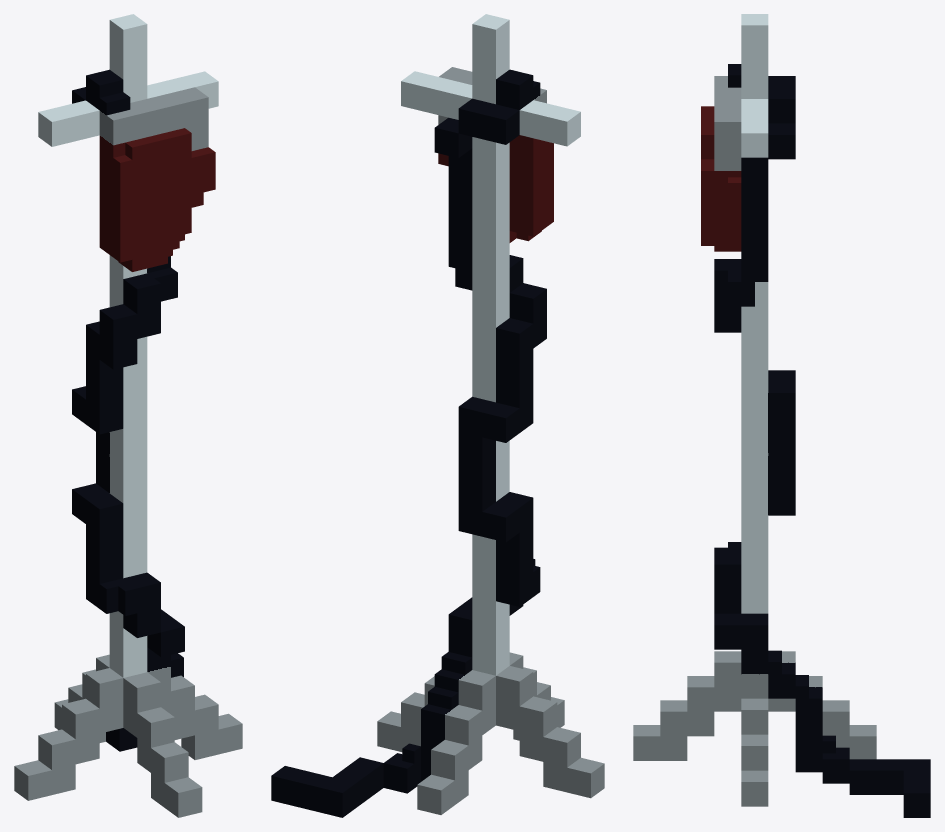
Rendered from kroplowka.dae.
3 views of the same model, side by side, from view 1: azimuth 30°, elevation 25°; view 2: azimuth 150°, elevation 25°; view 3: azimuth 270°, elevation 25° (orthographic).
Visible parts, largest first — view 1: Content; view 2: Content; view 3: Content.
Boxes of the visible parts, box(x1,y1,x2,y2) form: Content: box(14, 14, 242, 817); Content: box(271, 14, 604, 817); Content: box(633, 14, 930, 817).
Bounding box in the file's own units: 20 × 60 × 22.
Materials: 1 (1 with a texture image).
